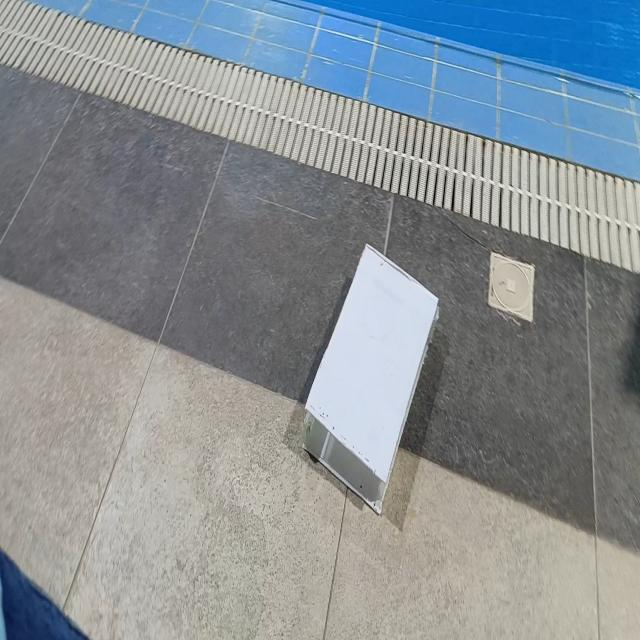Cuboid: (301, 241, 439, 516)
